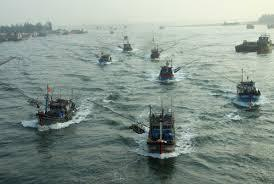Ship: (148, 106, 180, 160), (233, 70, 262, 110), (39, 99, 77, 126), (160, 63, 175, 82), (99, 56, 112, 65)
